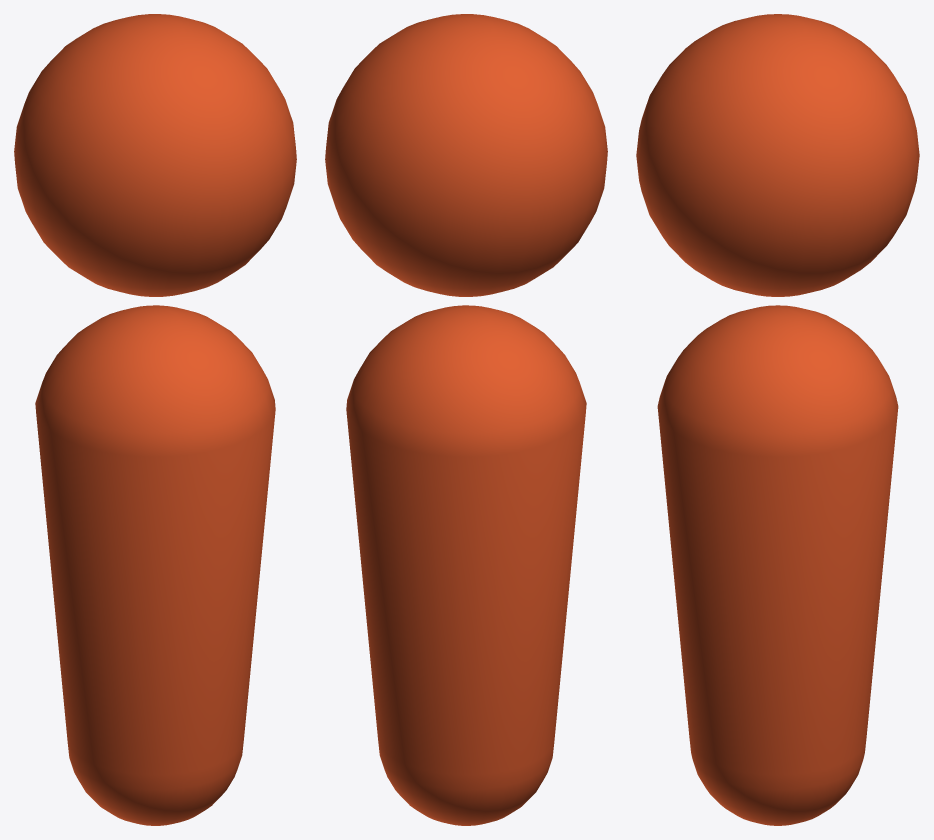
File: userLocation.glb
3 renders of one model, left to right at view 1: azimuth 30°, elevation 25°; view 2: azimuth 150°, elevation 25°; view 3: azimuth 270°, elevation 25°, orthographic.
Parts seen in each view (by area): view 1: Sphere.014, Sphere.015; view 2: Sphere.014, Sphere.015; view 3: Sphere.014, Sphere.015.
Boxes of the visible parts, bbox=[...] form: Sphere.014: bbox=[35, 305, 275, 825]; Sphere.015: bbox=[14, 14, 296, 296]; Sphere.014: bbox=[346, 305, 586, 825]; Sphere.015: bbox=[325, 14, 607, 296]; Sphere.014: bbox=[657, 305, 898, 825]; Sphere.015: bbox=[636, 14, 919, 296].
Bounding box in the file's own units: 0.1321 × 0.4066 × 0.1321.
